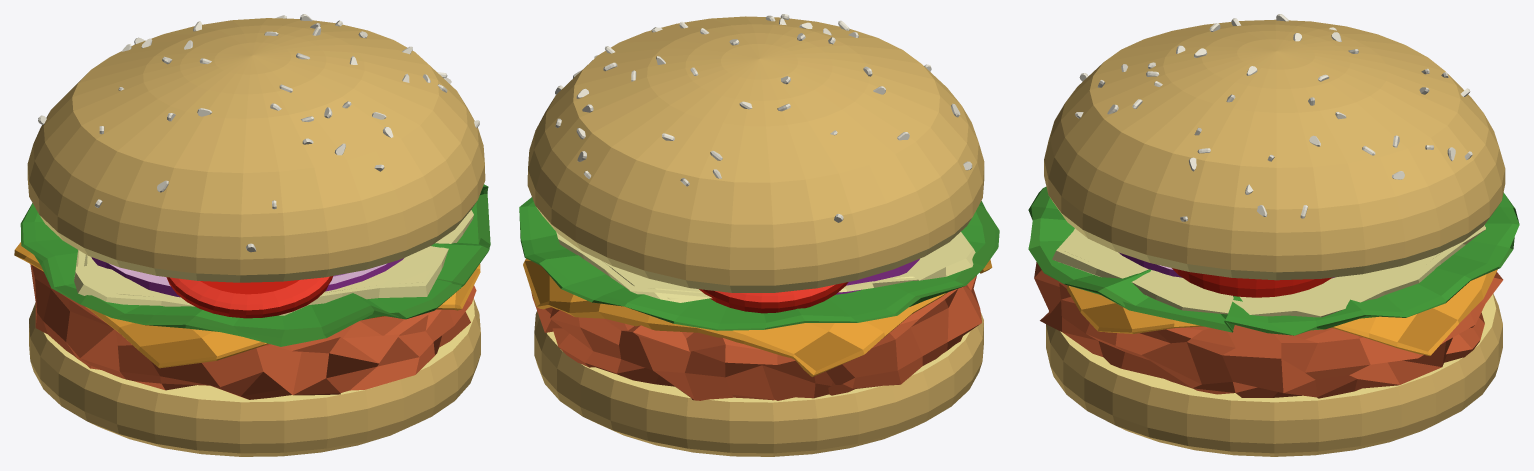
File: Burger.fbx
3 renders of one model, left to right at view 1: azimuth 30°, elevation 25°; view 2: azimuth 150°, elevation 25°; view 3: azimuth 270°, elevation 25°, orthographic.
Visible parts, largest first — view 1: burger; view 2: burger; view 3: burger.
Boxes of the visible parts, box(x1,y1,x2,y2) form: burger: box(14, 14, 490, 456); burger: box(519, 14, 999, 456); burger: box(1028, 14, 1519, 456).
Bounding box in the file's own units: 0.7097 × 0.5084 × 0.7091.
